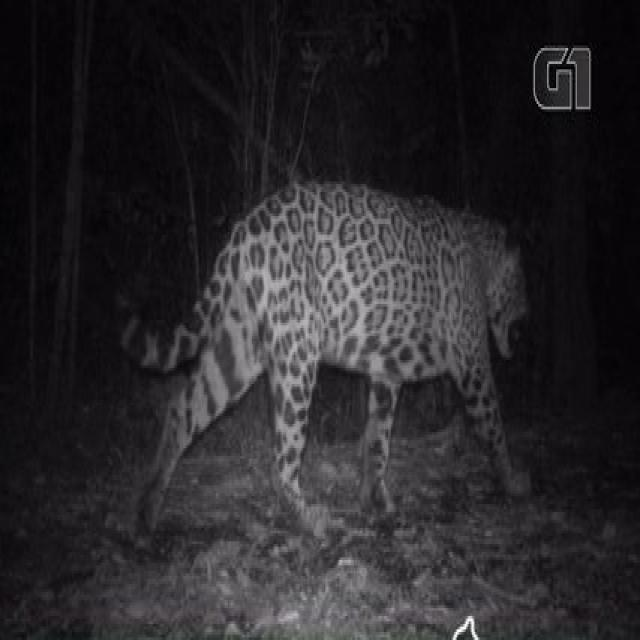Jaguar: (128, 182, 540, 526)
